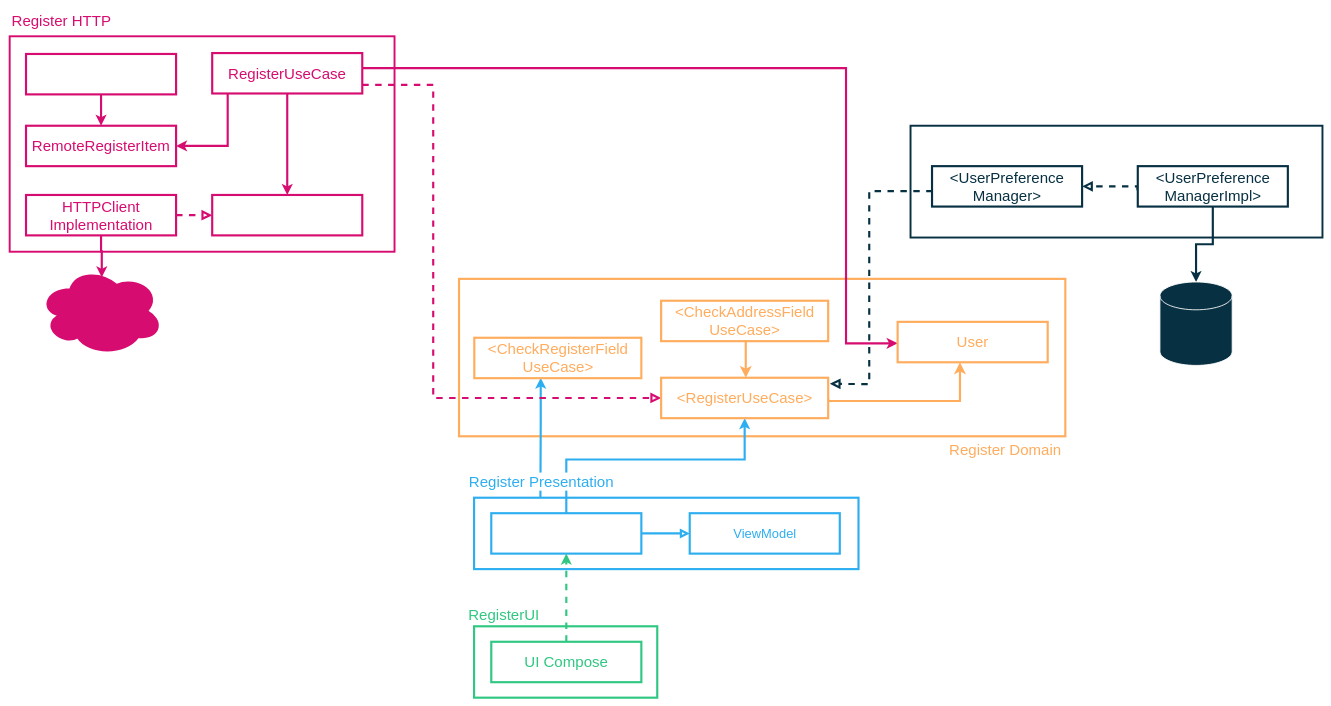
Some shapes in this 1331 by 706 pixel diagram are drawn without their labels. Here are the shapes that lost their labels. From the top down, the centre of each, then its label:
At point 101,74: "AuthItemsMapper".
At point 287,215: "HTTPClient".
At point 100,311: "Backend".
At point 1195,323: "Data Store".
At point 566,533: "RegisterViewModel".
